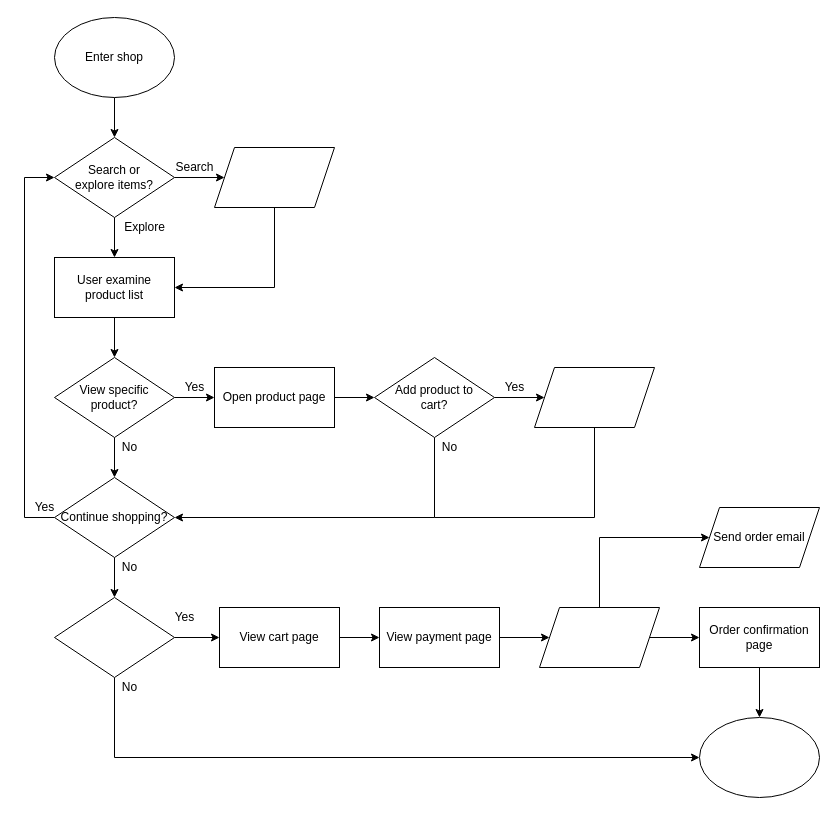
Image size: 837x815. Some labels were removed from this diagram. Here are the shapes that lost their labels. From the top down, the centre of each, then its label:
At [274,177]: "User input search keywords".
At [594,397]: "Add to cart confirmation".
At [114,637]: "Checkout?".
At [599,637]: "User inputs payment info".
At [759,757]: "Leave website".
